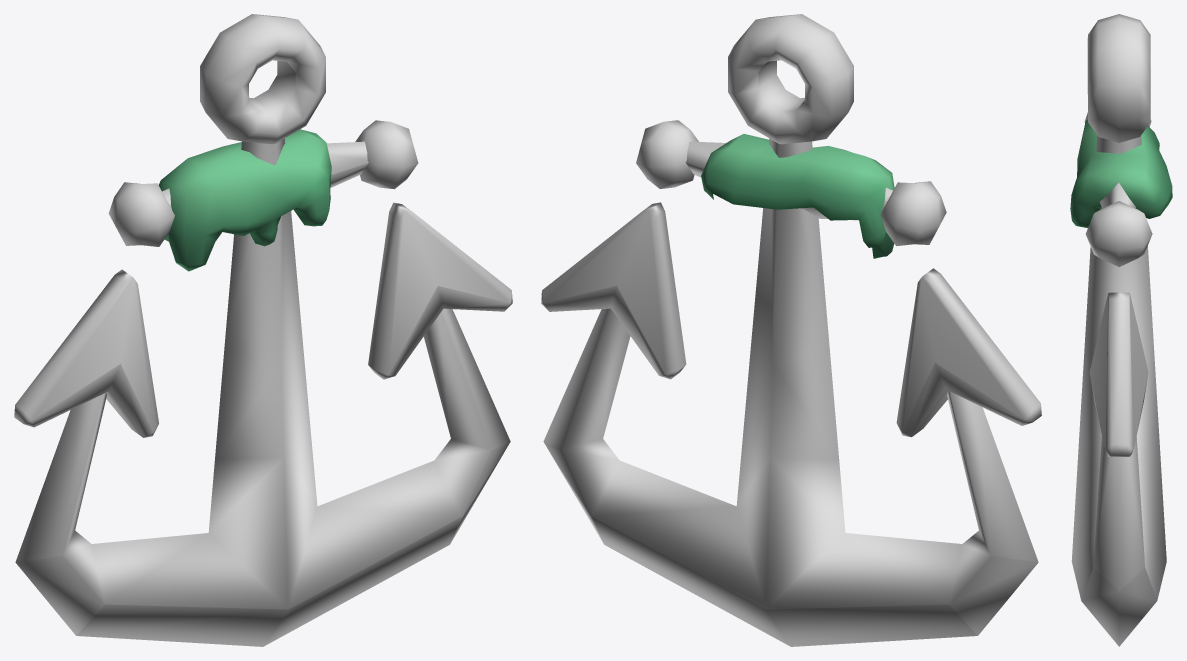
File: RustyAnchor.glb
3 views of the same model, side by side, from view 1: azimuth 30°, elevation 25°; view 2: azimuth 150°, elevation 25°; view 3: azimuth 270°, elevation 25° (orthographic). The views are drawn at different scales.
Visible parts, largest first — view 1: RustyAnchor; view 2: RustyAnchor; view 3: RustyAnchor.
Boxes of the visible parts, box(x1,y1,x2,y2) form: RustyAnchor: box(14, 14, 512, 646); RustyAnchor: box(541, 14, 1041, 646); RustyAnchor: box(1070, 14, 1172, 646).
Bounding box in the file's own units: 1.91 × 2.32 × 0.3614.
